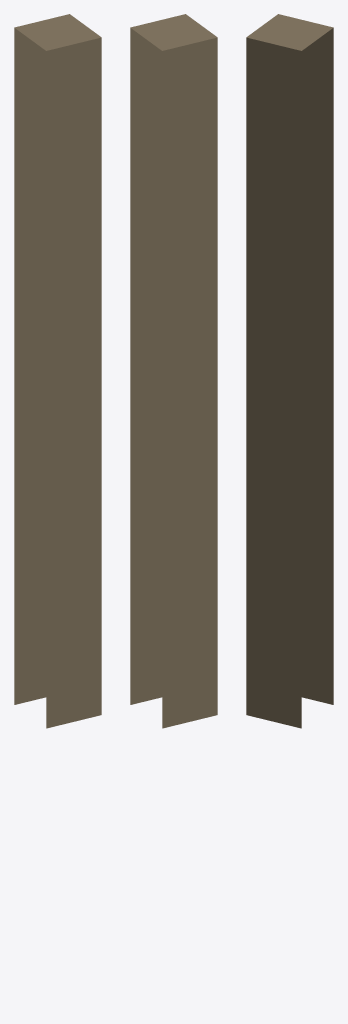
Rendered from SM_Wall_20.fbx.
3 views of the same model, side by side, from view 1: azimuth 30°, elevation 25°; view 2: azimuth 210°, elevation 25°; view 3: azimuth 330°, elevation 25° (orthographic).
Parts seen in each view (by area): view 1: SM_Wall_20; view 2: SM_Wall_20; view 3: SM_Wall_20.
Part boxes in pixels (x1,y1,x2,y2): SM_Wall_20: (14,14,101,728); SM_Wall_20: (130,14,217,728); SM_Wall_20: (246,14,333,728).
Bounding box in the file's own units: 20.01 × 330 × 20.
3 materials, 3 textured.
